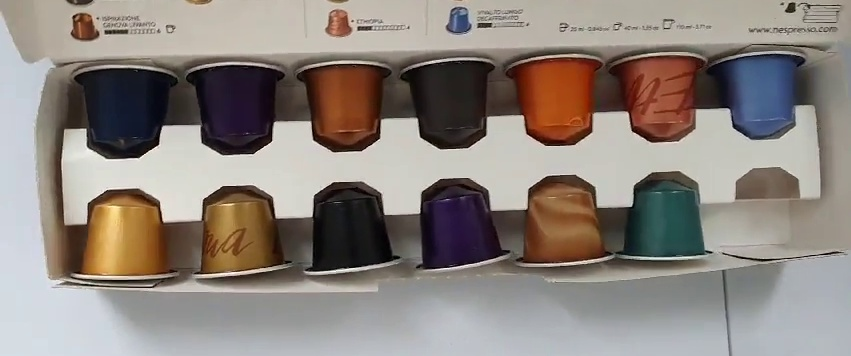capsule_1: (74, 61, 179, 159)
capsule_10: (304, 187, 404, 277)
capsule_11: (412, 180, 514, 273)
capsule_12: (515, 181, 617, 268)
capsule_13: (619, 172, 717, 264)
capsule_2: (183, 58, 288, 159)
capsule_3: (295, 63, 391, 144)
capsule_4: (398, 61, 498, 151)
capsule_5: (505, 48, 609, 145)
capsule_6: (604, 48, 708, 139)
capsule_7: (710, 49, 810, 137)
capsule_8: (67, 191, 183, 289)
capsule_9: (194, 187, 293, 279)
